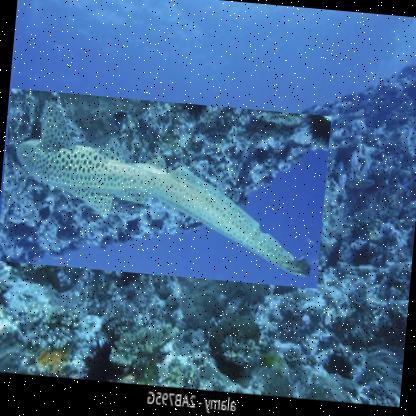zebra_shark: (0, 89, 332, 291)
